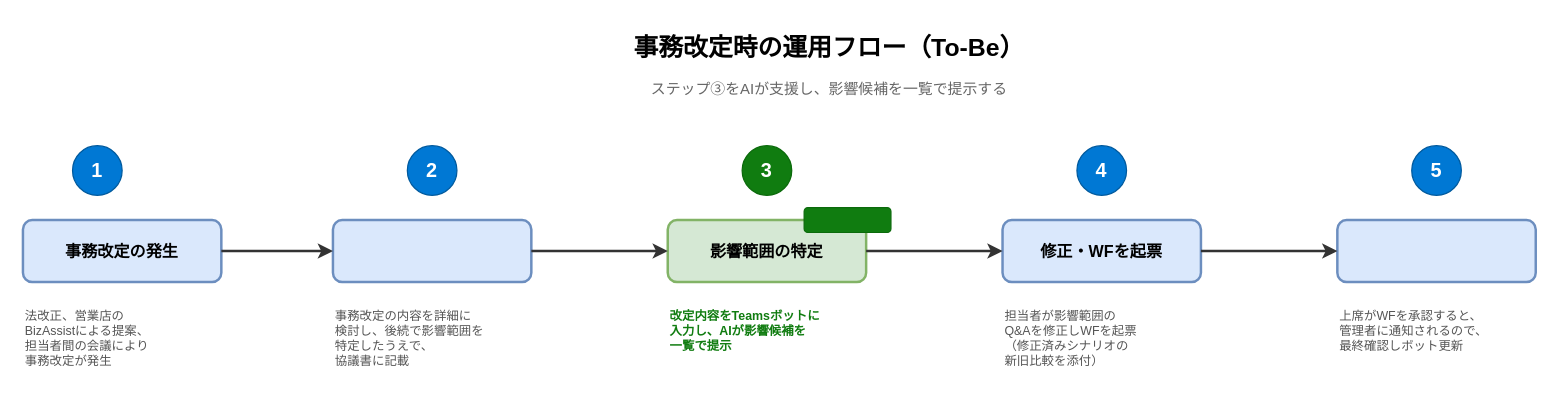
This 1557x408 diagram has some shape labels left out. The shapes that lost their labels are listed below. From the top down, each one's centre as x and y in pixels, then its label:
the point at 847,219: AI × ヒト
the point at 431,250: 改定内容の検討
the point at 1435,250: WF承認後に 台帳へ記入
